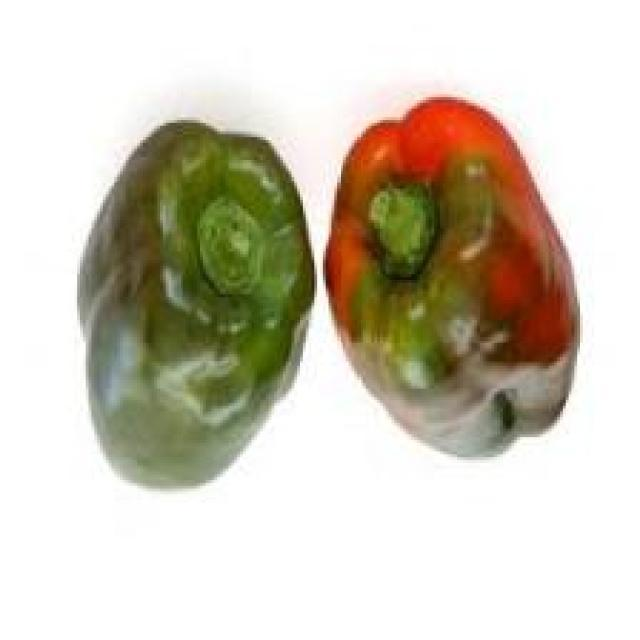Pepper: (326, 97, 580, 463), (74, 120, 317, 494)
